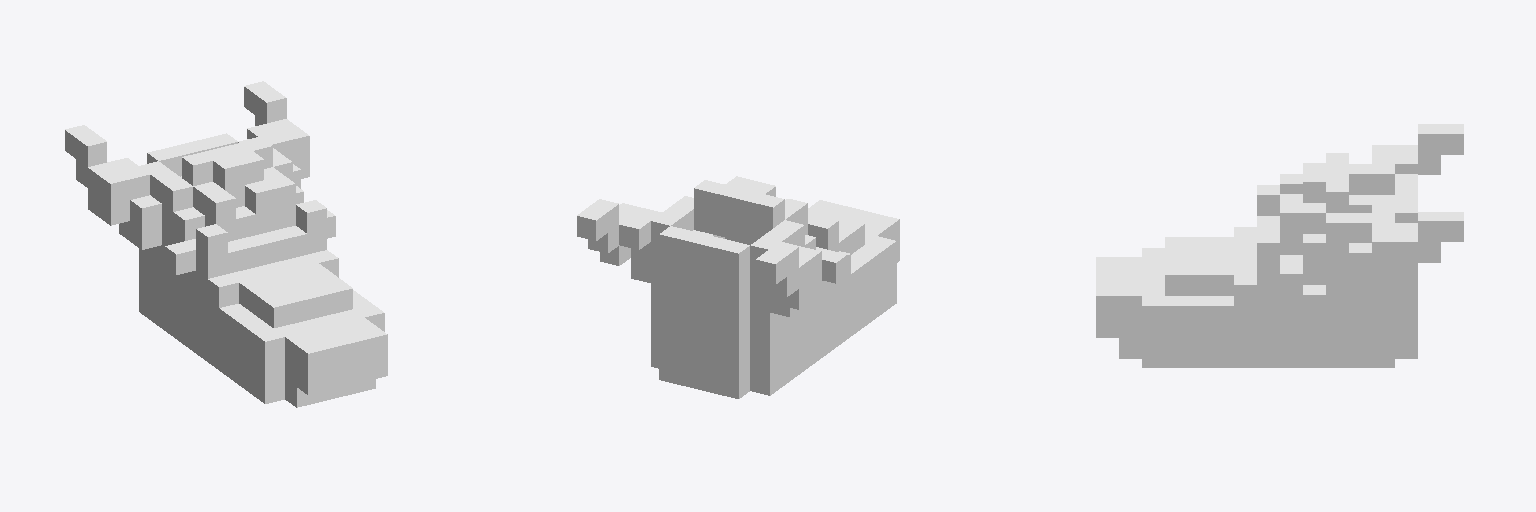
File: shoe.obj
3 views of the same model, side by side, from view 1: azimuth 30°, elevation 25°; view 2: azimuth 150°, elevation 25°; view 3: azimuth 270°, elevation 25° (orthographic).
Parts seen in each view (by area): view 1: object 1; view 2: object 1; view 3: object 1.
Part boxes in pixels (bbox=[...]): object 1: bbox=[65, 81, 387, 407]; object 1: bbox=[577, 176, 899, 398]; object 1: bbox=[1096, 124, 1463, 367].
Bounding box in the file's own units: 1 × 0.8 × 1.6.